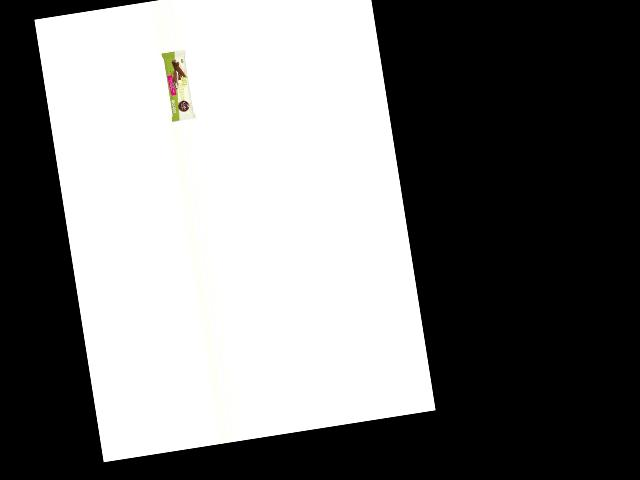chocolate: (158, 48, 197, 122)
